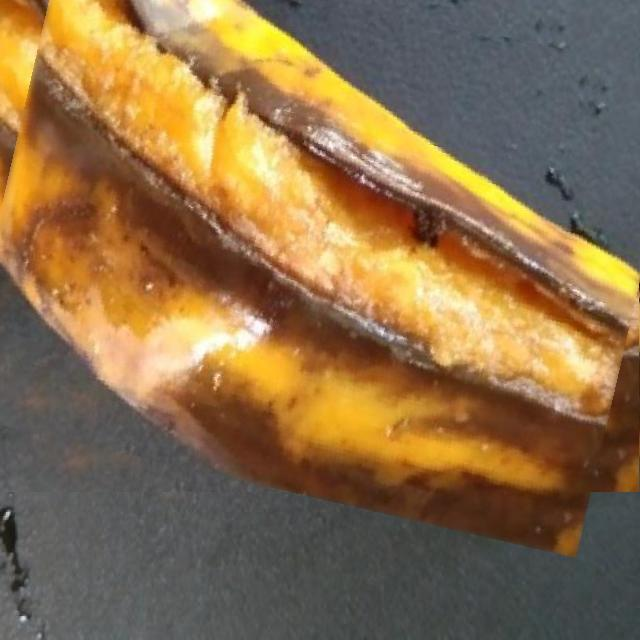Podre: (0, 0, 640, 524)
